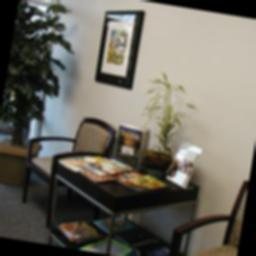Matera: (0, 3, 67, 194)
